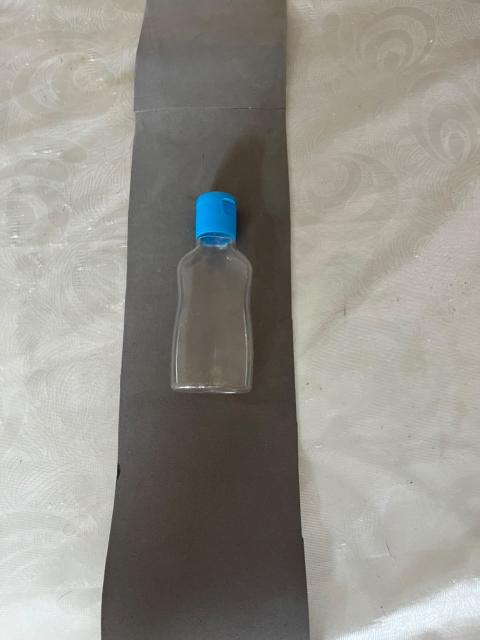PET: (130, 169, 314, 443)
